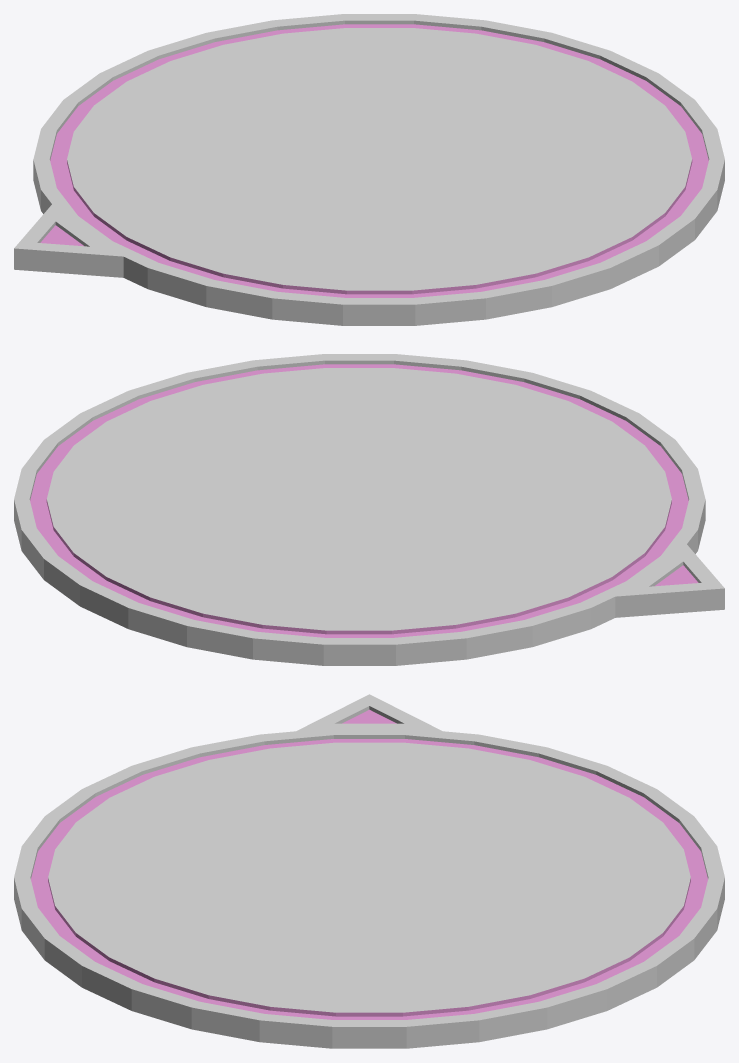
File: Ring2_Bogdan.fbx
The picture shows the model from 3 angles, top to bottom: view 1: azimuth 30°, elevation 25°; view 2: azimuth 150°, elevation 25°; view 3: azimuth 270°, elevation 25°; orthographic projection. The views are drawn at different scales.
Parts seen in each view (by area): view 1: Ring2; view 2: Ring2; view 3: Ring2.
Part boxes in pixels (box(x1,y1,x2,y2)): Ring2: box(14, 14, 724, 325); Ring2: box(14, 354, 724, 665); Ring2: box(14, 694, 724, 1048).
Bounding box in the file's own units: 977 × 30 × 883.
